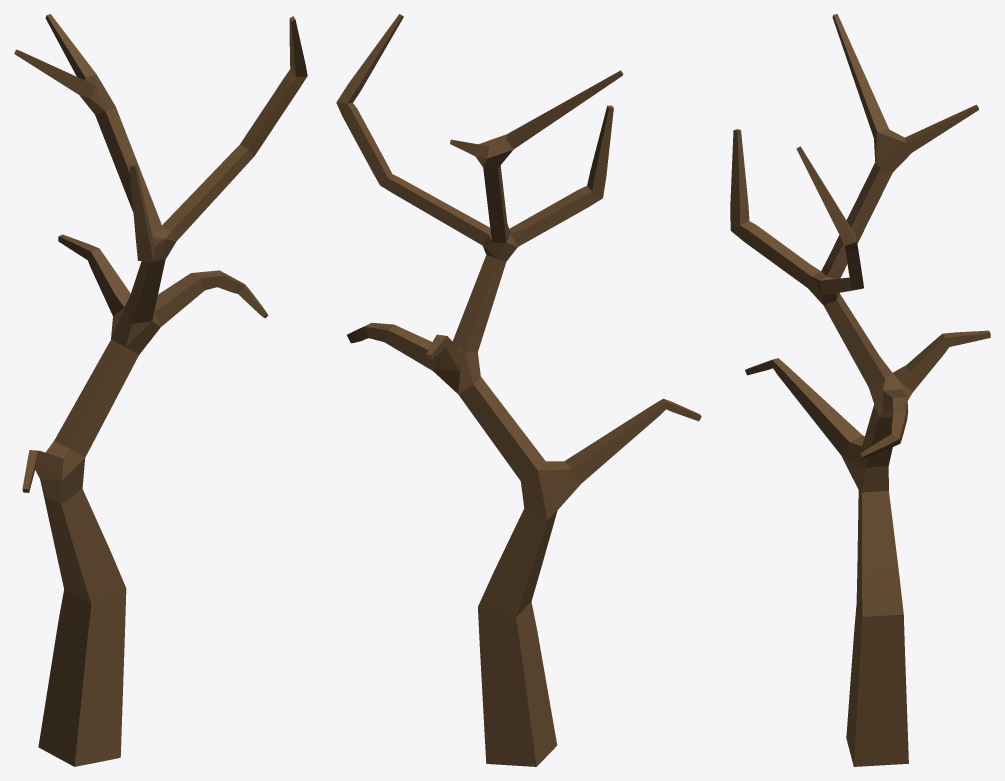
Rendered from dead_tree.glb.
3 views of the same model, side by side, from view 1: azimuth 30°, elevation 25°; view 2: azimuth 150°, elevation 25°; view 3: azimuth 270°, elevation 25° (orthographic). The views are drawn at different scales.
Parts seen in each view (by area): view 1: Cube.001; view 2: Cube.001; view 3: Cube.001.
Part boxes in pixels (x1=…): Cube.001: x1=14, y1=14, x2=307, y2=766; Cube.001: x1=336, y1=14, x2=701, y2=766; Cube.001: x1=730, y1=14, x2=990, y2=766.
Size of the model in its own units: 3.75 by 7.92 by 2.67.
